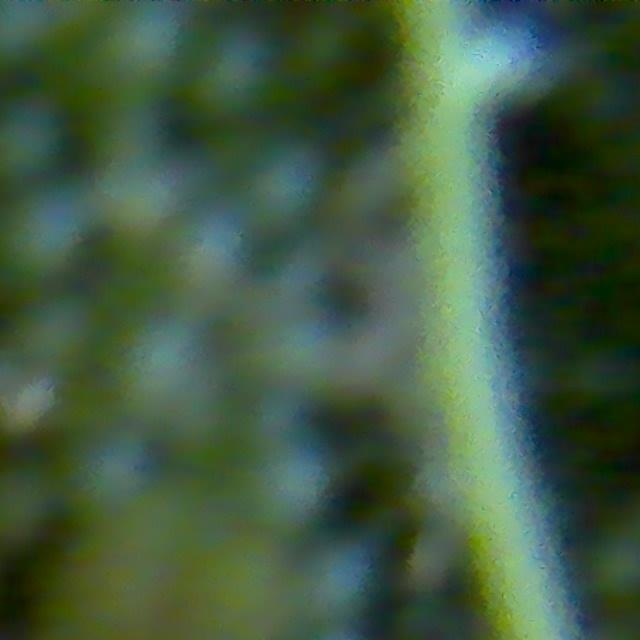SeaGrape: (104, 311, 220, 417), (241, 429, 333, 529), (95, 0, 189, 92), (0, 185, 87, 282), (193, 22, 280, 119), (243, 138, 327, 229), (93, 156, 183, 240), (70, 429, 157, 515), (173, 224, 257, 311), (18, 290, 101, 373), (297, 538, 377, 622), (0, 97, 63, 182), (0, 463, 55, 548), (0, 0, 61, 70), (588, 527, 640, 603)
